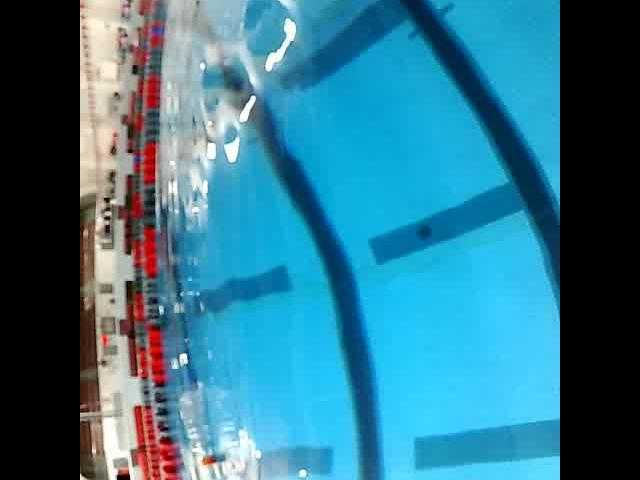Bottle: (174, 379, 220, 471)
